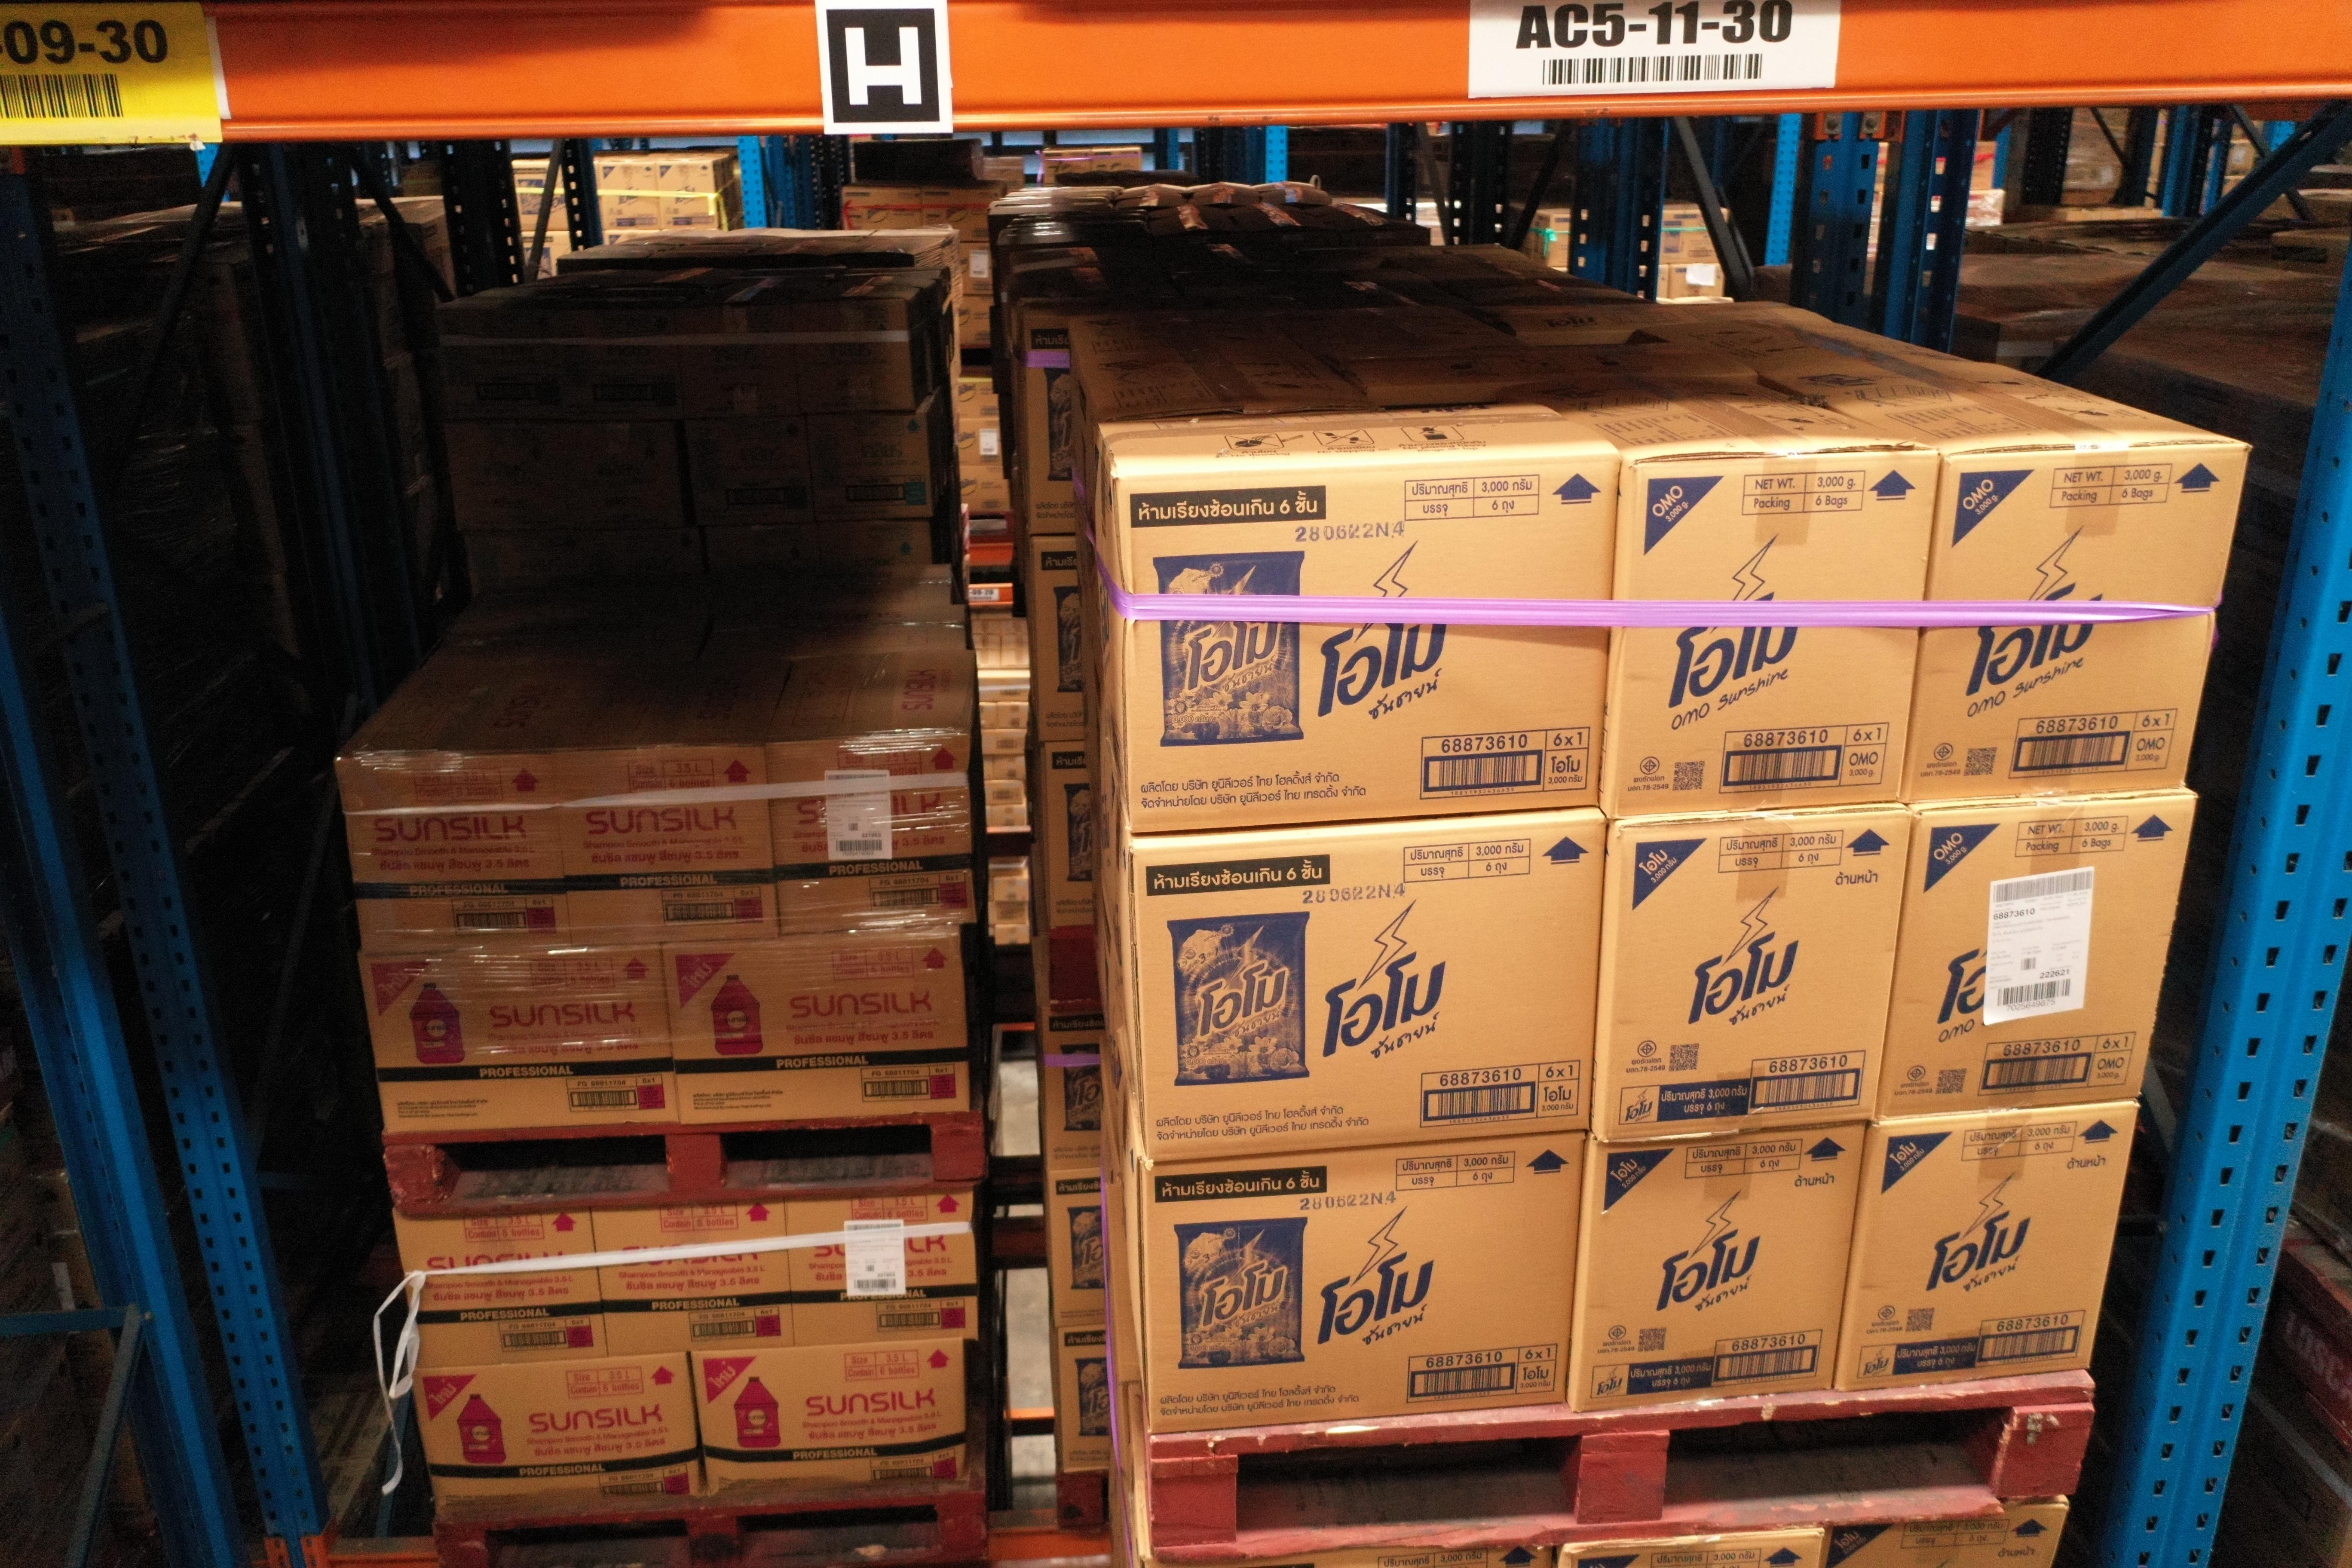-: (1122, 455, 1619, 836), (1134, 812, 1605, 1164), (1141, 1132, 1592, 1437), (1907, 443, 2249, 808), (1605, 451, 1941, 819), (1599, 808, 1913, 1143), (1883, 798, 2201, 1118), (1578, 1120, 1872, 1414), (1841, 1106, 2142, 1388)
2: (434, 301, 576, 422), (686, 415, 815, 528), (675, 303, 801, 418), (787, 299, 913, 415), (803, 413, 933, 523), (444, 420, 572, 530), (565, 308, 684, 420), (563, 420, 682, 530)
box: (660, 934, 973, 1125), (359, 947, 677, 1134), (415, 1353, 707, 1524), (338, 749, 574, 959), (549, 742, 782, 947), (689, 1342, 964, 1501), (768, 733, 980, 934), (392, 1207, 611, 1372), (787, 1188, 980, 1353), (597, 1204, 796, 1356)
